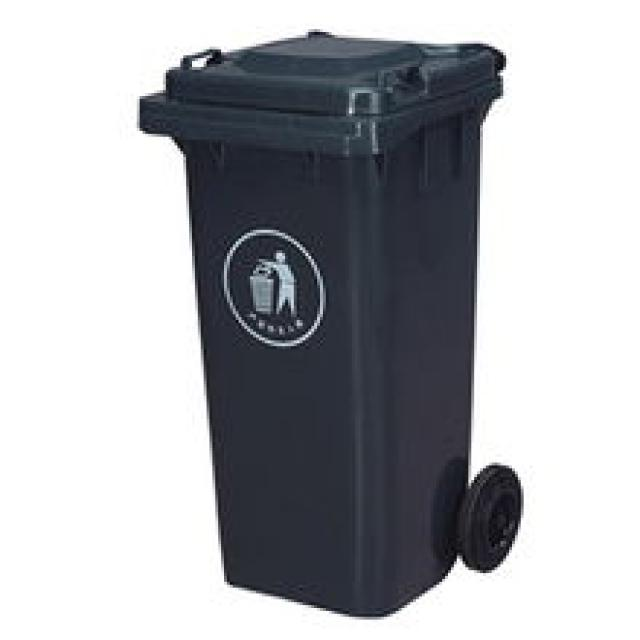garbage_bin: (134, 26, 521, 614)
